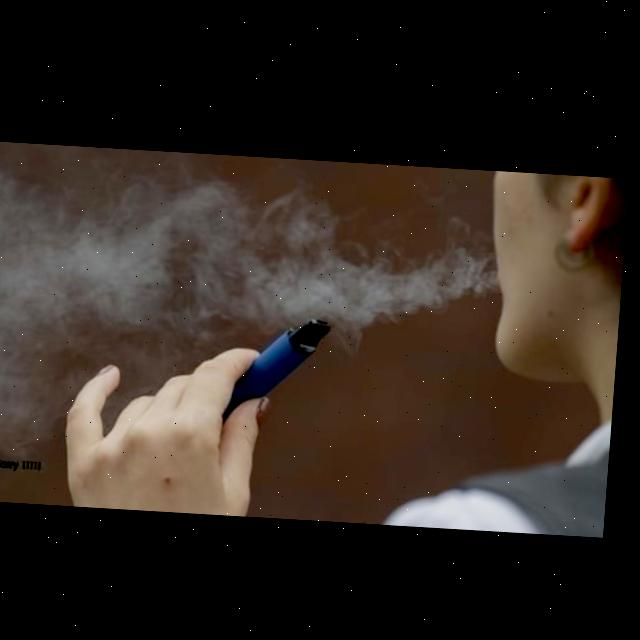vape: (225, 308, 336, 420)
